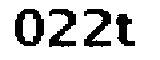0: (9, 6, 46, 52)
2: (81, 2, 114, 52), (47, 4, 80, 52)
t: (114, 9, 142, 51)
